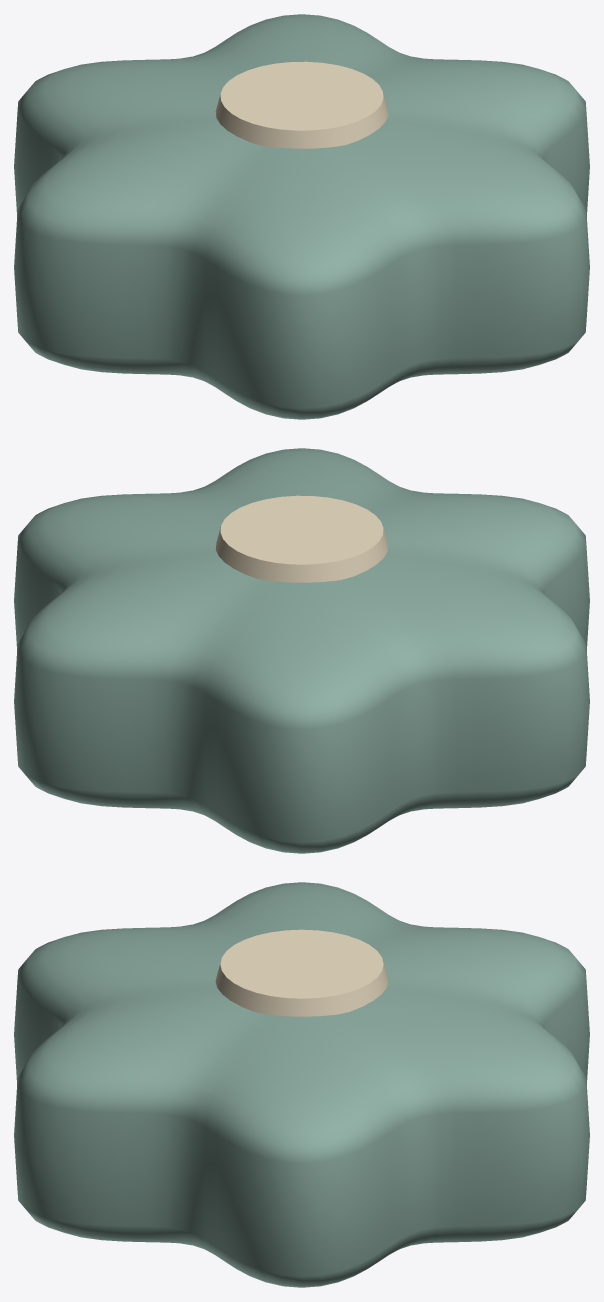
File: flowercushion.glb
The picture shows the model from 3 angles, top to bottom: view 1: azimuth 30°, elevation 25°; view 2: azimuth 150°, elevation 25°; view 3: azimuth 270°, elevation 25°; orthographic projection.
Parts seen in each view (by area): view 1: continuous-petal-casing, center-tuft; view 2: continuous-petal-casing, center-tuft; view 3: continuous-petal-casing, center-tuft.
Boxes of the visible parts, x1,y1,x2,y2 form: continuous-petal-casing: (14, 14, 589, 419); center-tuft: (215, 61, 388, 148); continuous-petal-casing: (14, 448, 589, 853); center-tuft: (215, 495, 388, 582); continuous-petal-casing: (14, 882, 589, 1287); center-tuft: (215, 929, 388, 1016).
Bounding box in the file's own units: 0.99 × 0.383 × 0.8817.
